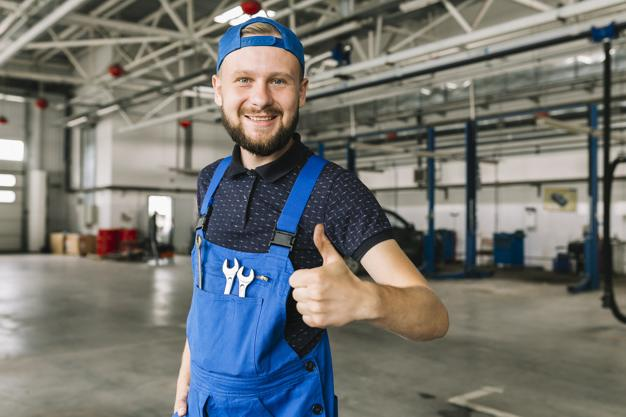thumbsup: (289, 223, 340, 329)
